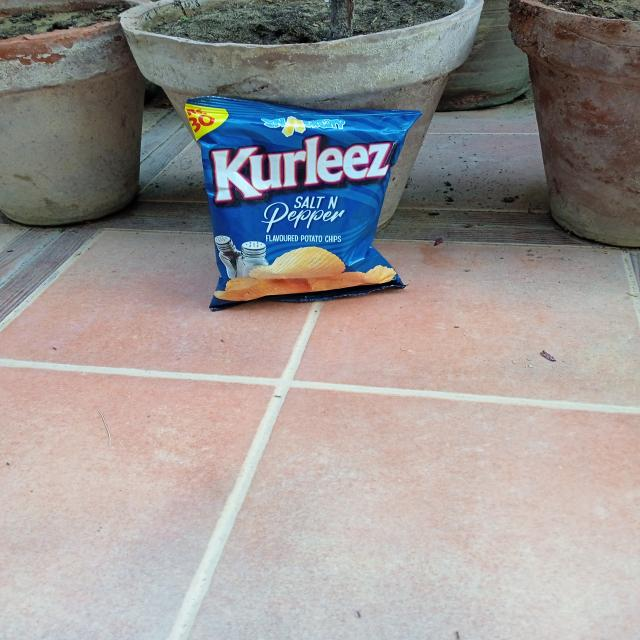Plastic: (178, 86, 424, 312)
